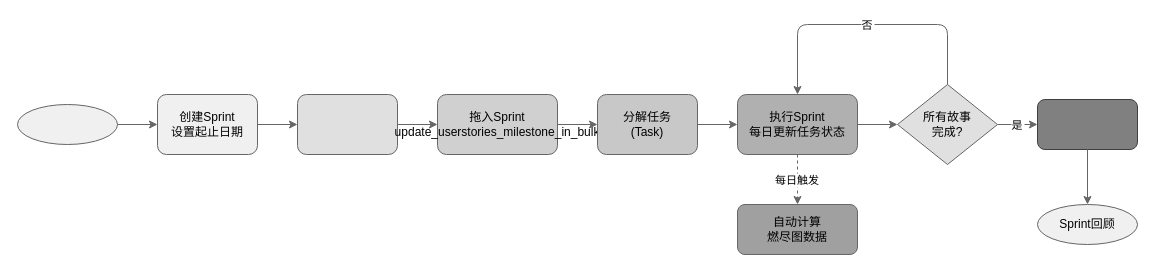
The diagram is 1155 pixels wide and 272 high, and some of its shapes have lost their labels. Here are the shapes that lost their labels. From the top down, the centre of each, then its label:
At [67,124]: "开始Sprint规划".
At [347,124]: "从Backlog选择 用户故事".
At [1087,124]: "关闭Sprint close_milestone()".
